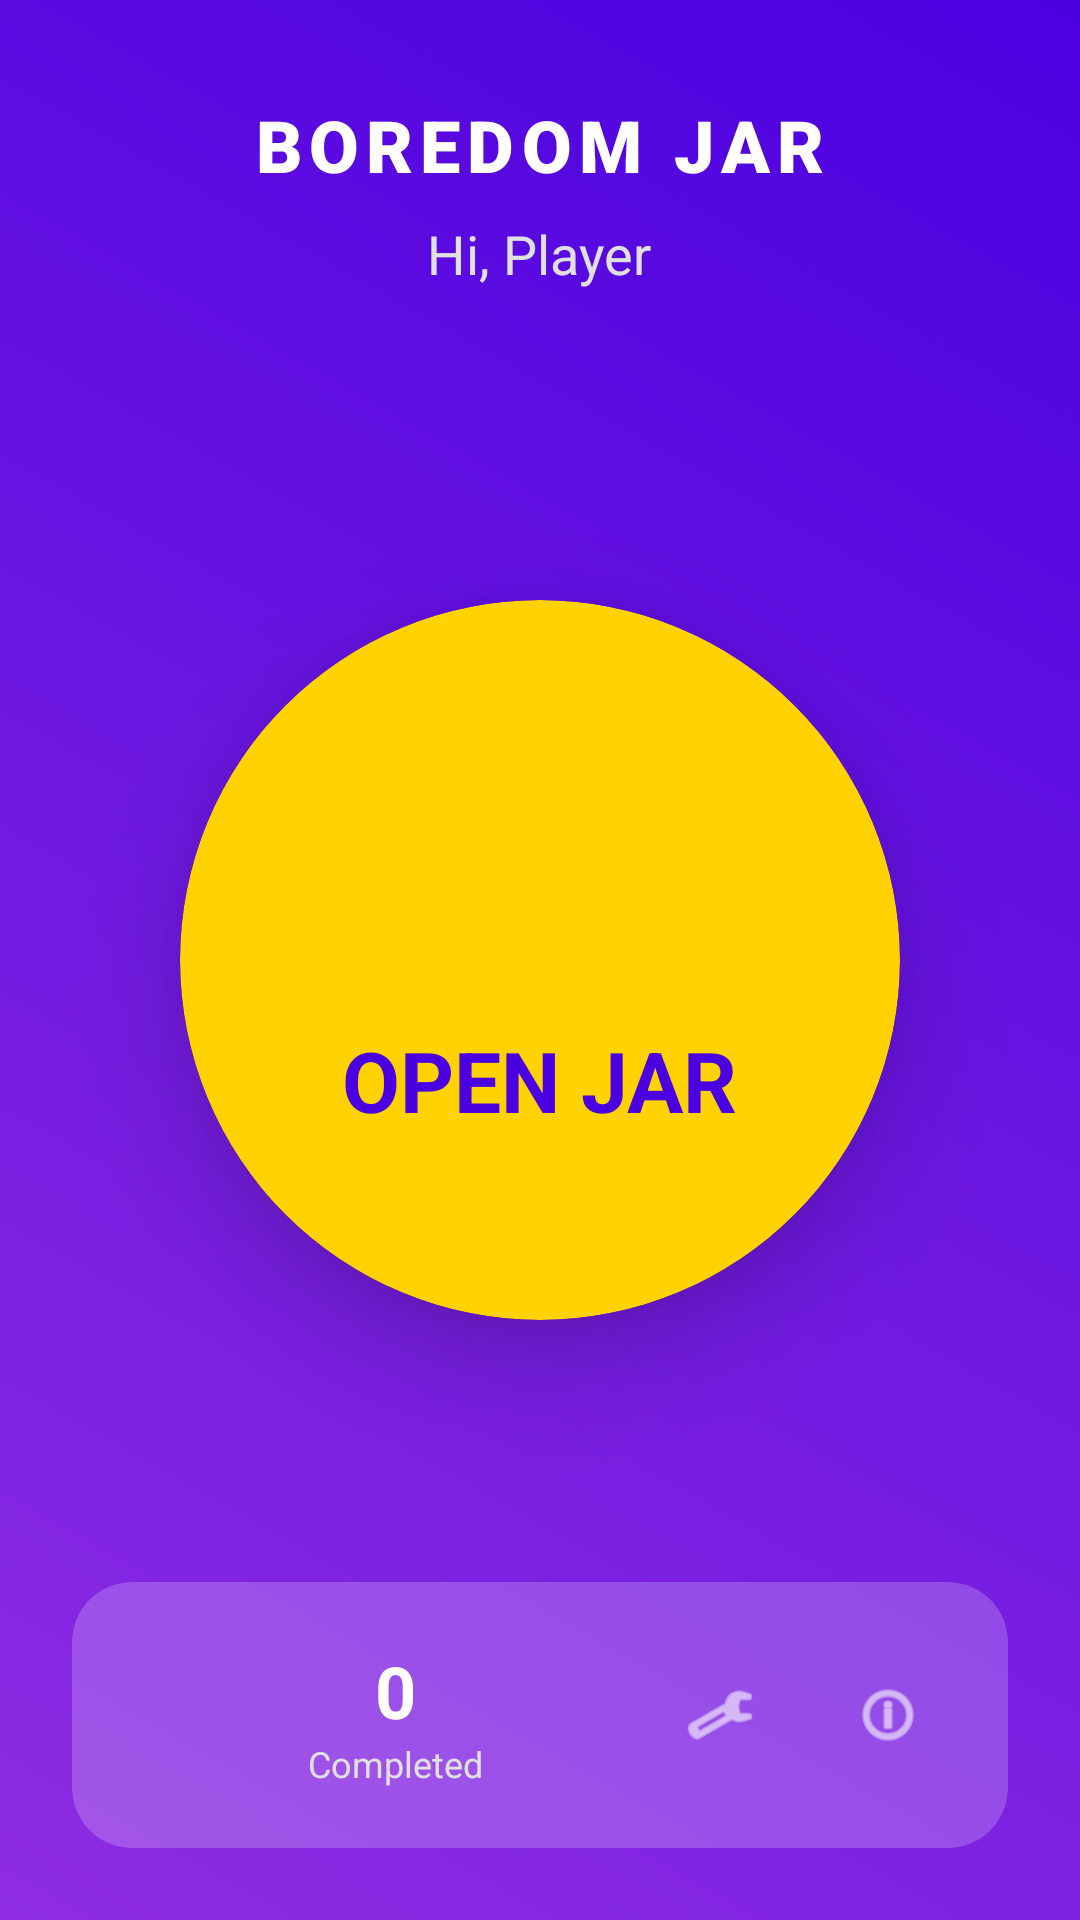

Named icons in this screenshot (1080w x 1920h) and their centers, (x=x, y=y):
info details: (x=888, y=1715)
preferences: (x=720, y=1715)
